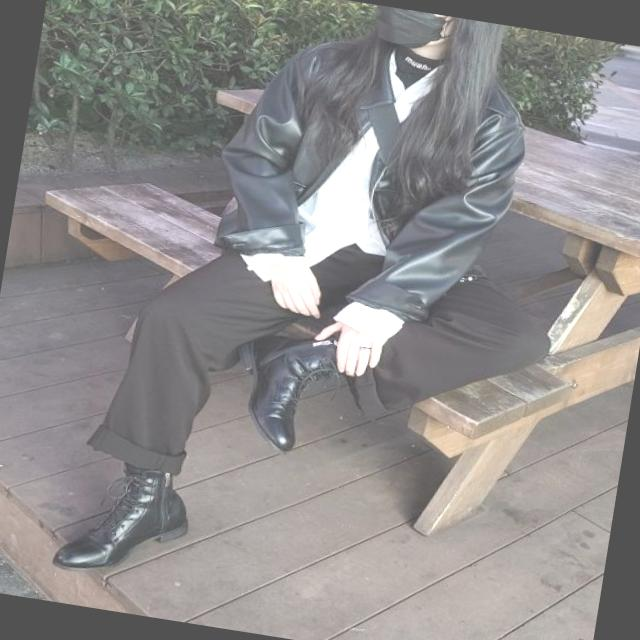cottonpants: (82, 206, 572, 542)
jacket: (202, 14, 540, 330)
